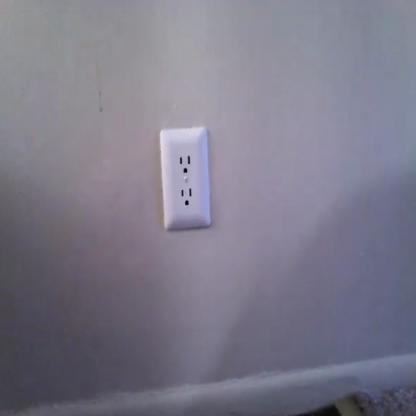OUTLET: (159, 129, 212, 231)
